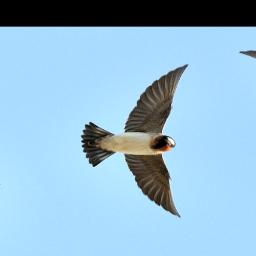Swallow: (54, 61, 256, 232)
